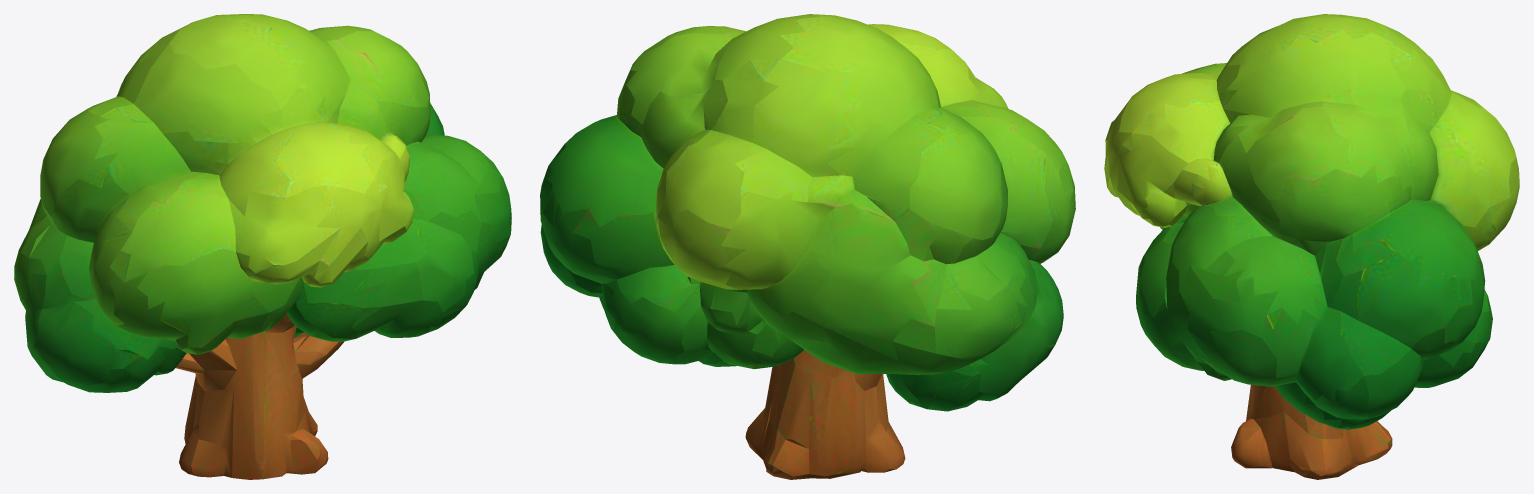
Rendered from skate-trae.glb.
The picture shows the model from 3 angles, left to right: view 1: azimuth 30°, elevation 25°; view 2: azimuth 150°, elevation 25°; view 3: azimuth 270°, elevation 25°; orthographic projection. The views are drawn at different scales.
Bounding box in the file's own units: 1.9 × 1.65 × 1.48.
Materials: 1 (1 with a texture image).
